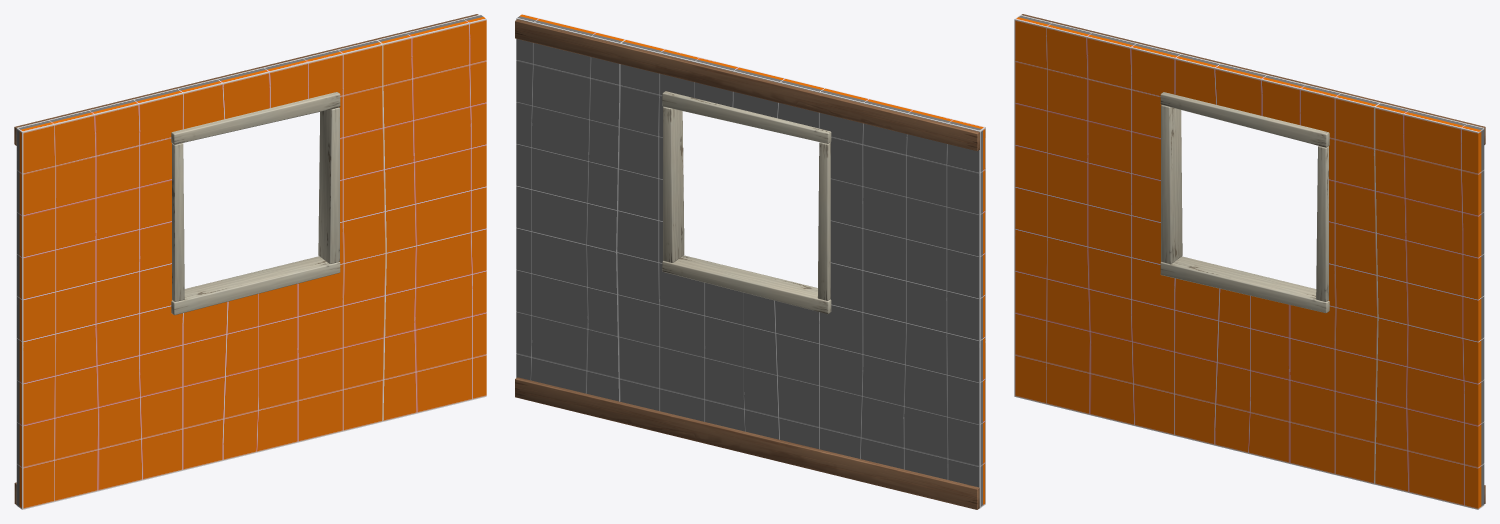
Rendered from Hangar01WW_3.FBX.
3 renders of one model, left to right at view 1: azimuth 30°, elevation 25°; view 2: azimuth 150°, elevation 25°; view 3: azimuth 330°, elevation 25°, orthographic.
Parts seen in each view (by area): view 1: Hangar01WW_3; view 2: Hangar01WW_3; view 3: Hangar01WW_3.
Part boxes in pixels (box(x1,y1,x2,y2)): Hangar01WW_3: box(14, 14, 486, 509); Hangar01WW_3: box(515, 14, 985, 509); Hangar01WW_3: box(1014, 14, 1485, 509).
Size of what is drawn, in the model's own units: 4.5 by 3.5 by 0.2.
